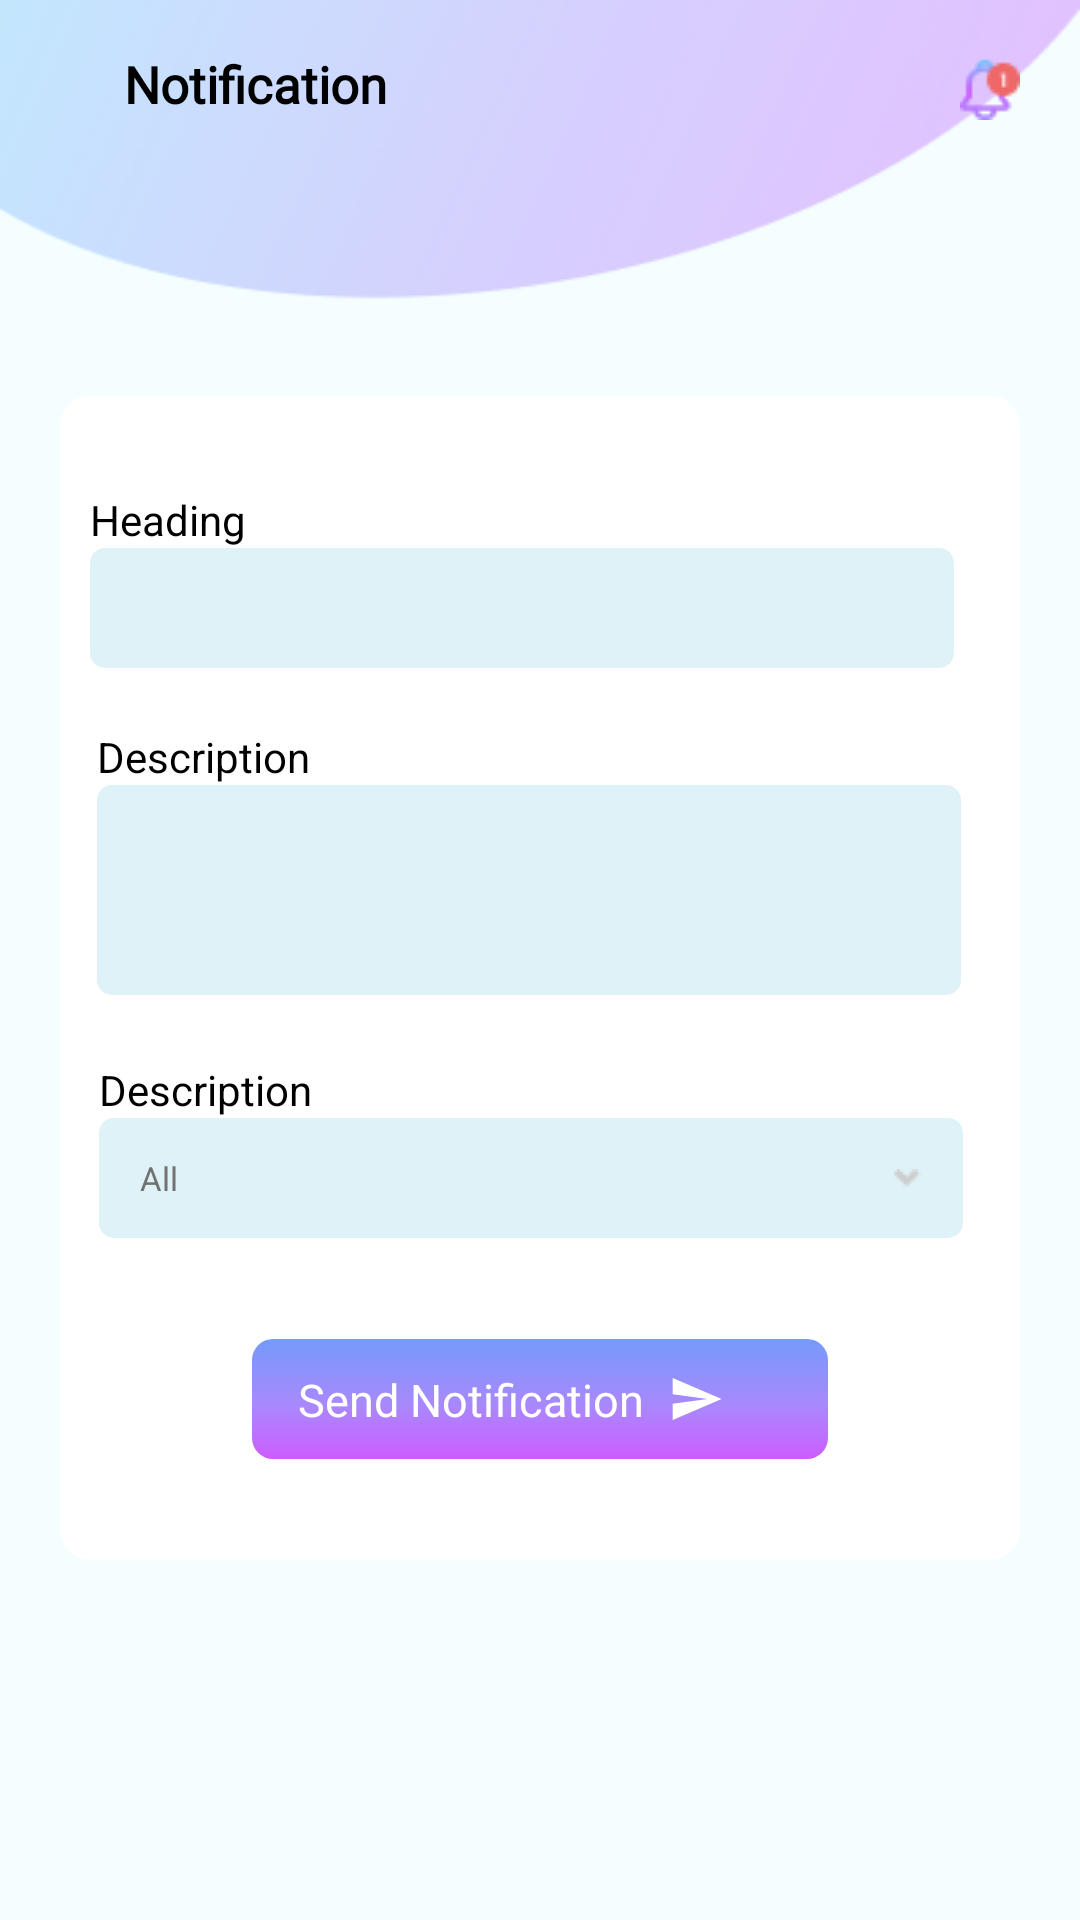

Where to tap for icons on this 1080x1920 app screen, as point (x, y):
notification bell: point (990, 84)
